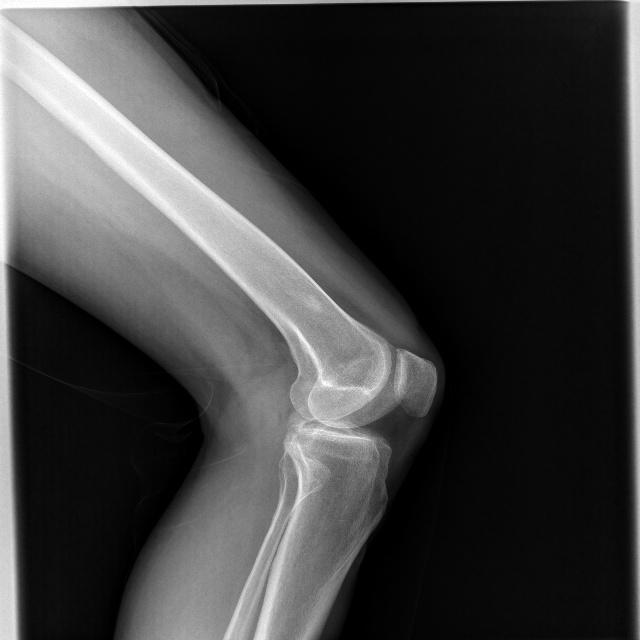Knee: (271, 341, 438, 497)
